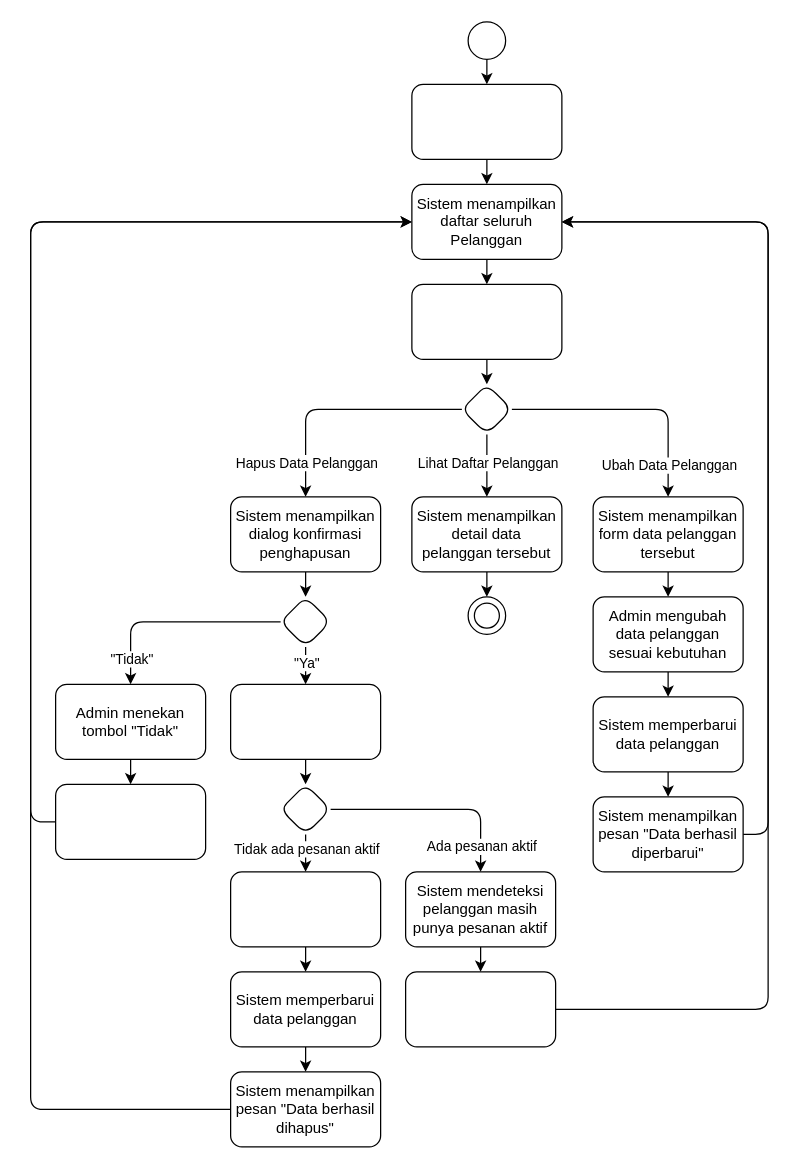
Some shapes in this 800 by 1169 pixel diagram are drawn without their labels. The box of each missing label's shape, as (x1, y1, x2, y2) in pixels:
Admin memilih menu Data Pelanggan: (411, 83, 562, 159)
Admin memilih salah satu data pelanggan: (411, 283, 562, 359)
Admin menekan tombol "Ya": (229, 683, 381, 759)
Sistem menampilkan pesan pesan peringatan: (404, 971, 556, 1047)
Sistem menghapus data pelanggan: (229, 871, 381, 947)
Sistem menutup dialog: (54, 783, 206, 859)
